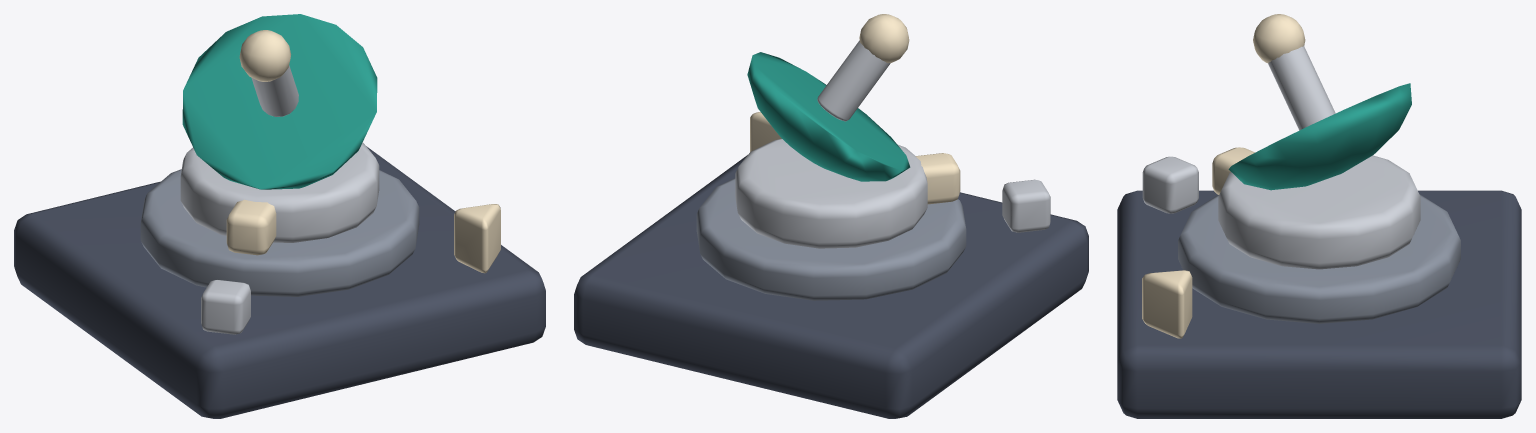
Rendered from Ctrl_Instr_Radar.glb.
The picture shows the model from 3 angles, left to right: view 1: azimuth 30°, elevation 25°; view 2: azimuth 150°, elevation 25°; view 3: azimuth 270°, elevation 25°; orthographic projection. The views are drawn at different scales.
Parts seen in each view (by area): view 1: Ctrl_Instr_Radar.Base, Ctrl_Instr_Radar.Move_Knob, Ctrl_Instr_Radar.Dial, Ctrl_Instr_Radar.Marks; view 2: Ctrl_Instr_Radar.Base, Ctrl_Instr_Radar.Move_Knob, Ctrl_Instr_Radar.Dial, Ctrl_Instr_Radar.Marks; view 3: Ctrl_Instr_Radar.Base, Ctrl_Instr_Radar.Move_Knob, Ctrl_Instr_Radar.Dial, Ctrl_Instr_Radar.Marks.
Boxes of the visible parts, x1=… form: Ctrl_Instr_Radar.Base: x1=14, y1=146, x2=545, y2=418; Ctrl_Instr_Radar.Move_Knob: x1=180, y1=14, x2=379, y2=255; Ctrl_Instr_Radar.Dial: x1=140, y1=169, x2=419, y2=296; Ctrl_Instr_Radar.Marks: x1=201, y1=204, x2=500, y2=334; Ctrl_Instr_Radar.Base: x1=574, y1=155, x2=1088, y2=418; Ctrl_Instr_Radar.Move_Knob: x1=735, y1=14, x2=960, y2=248; Ctrl_Instr_Radar.Dial: x1=696, y1=178, x2=966, y2=300; Ctrl_Instr_Radar.Marks: x1=750, y1=112, x2=1050, y2=232; Ctrl_Instr_Radar.Base: x1=1117, y1=190, x2=1521, y2=418; Ctrl_Instr_Radar.Move_Knob: x1=1212, y1=14, x2=1420, y2=269; Ctrl_Instr_Radar.Dial: x1=1178, y1=194, x2=1460, y2=323; Ctrl_Instr_Radar.Marks: x1=1142, y1=156, x2=1198, y2=338.
Size of the model in its own units: 0.2 by 0.1681 by 0.2.
Materials: 1 (1 with a texture image).
